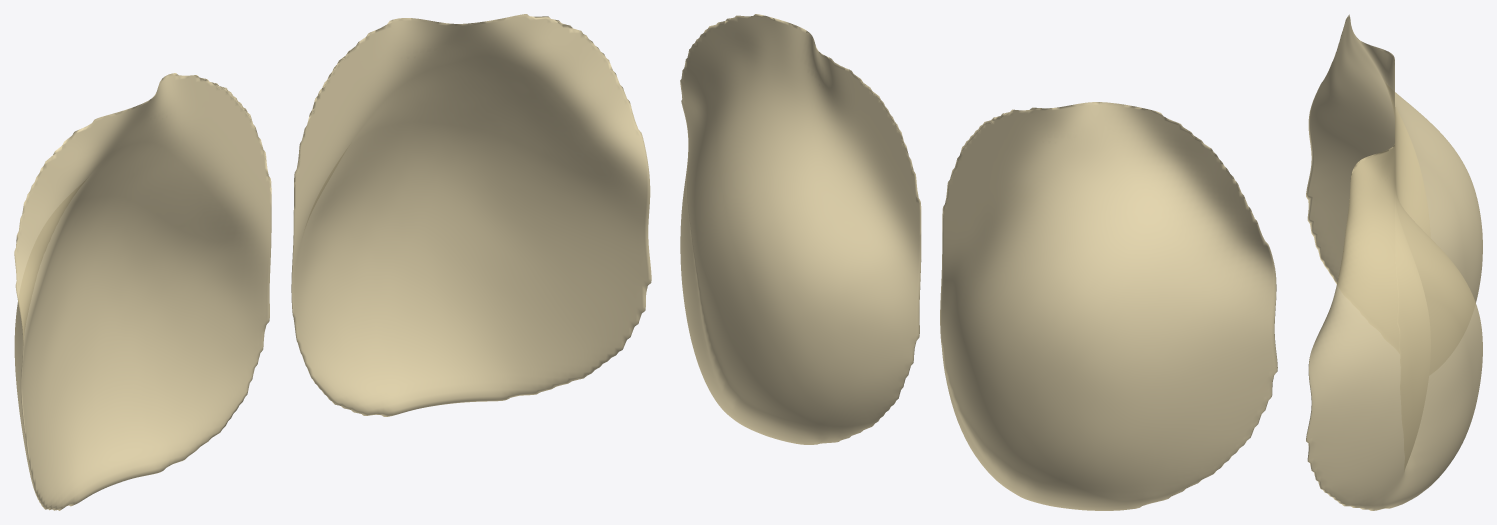
Rendered from gluteal_fat_f.glb.
The picture shows the model from 3 angles, left to right: view 1: azimuth 30°, elevation 25°; view 2: azimuth 150°, elevation 25°; view 3: azimuth 270°, elevation 25°; orthographic projection. The views are drawn at different scales.
Visible parts, largest first — view 1: Gluteal subcutaneous fat.l, Gluteal subcutaneous fat.r; view 2: Gluteal subcutaneous fat.r, Gluteal subcutaneous fat.l; view 3: Gluteal subcutaneous fat.l, Gluteal subcutaneous fat.r.
Part boxes in pixels (<box>): Gluteal subcutaneous fat.l: <box>291,14,651,416</box>; Gluteal subcutaneous fat.r: <box>14,73,271,510</box>; Gluteal subcutaneous fat.r: <box>940,102,1277,510</box>; Gluteal subcutaneous fat.l: <box>680,14,921,444</box>; Gluteal subcutaneous fat.l: <box>1306,144,1482,510</box>; Gluteal subcutaneous fat.r: <box>1306,14,1482,302</box>.
Size of the model in its own units: 0.2759 by 0.1707 by 0.0841.
